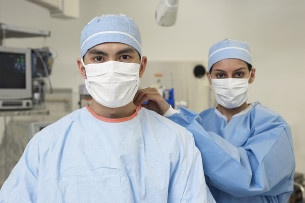Mask: (83, 46, 140, 104)
